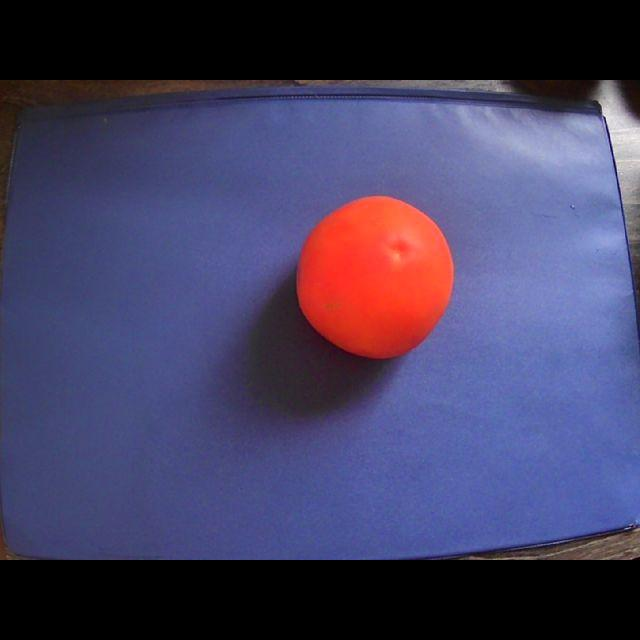tomate: (297, 196, 454, 358)
